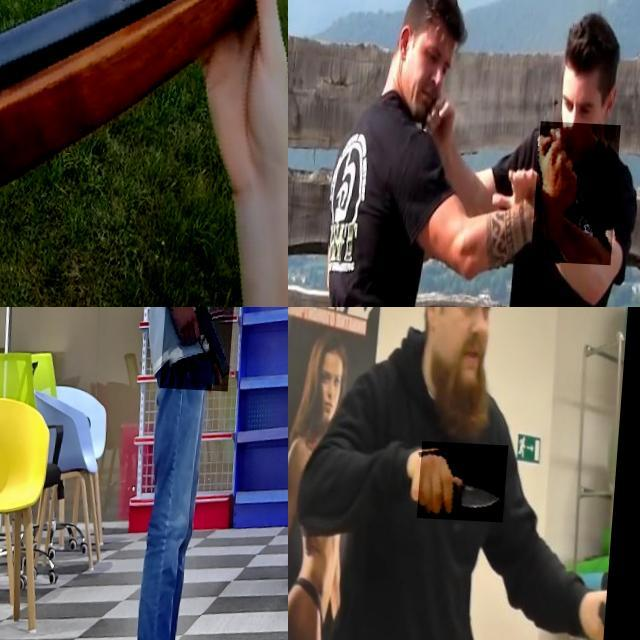-: (536, 116, 624, 260), (424, 436, 514, 517)
gun-knife-thesis - v11 Yolov5 augmented: (0, 0, 288, 307), (164, 307, 238, 387)
